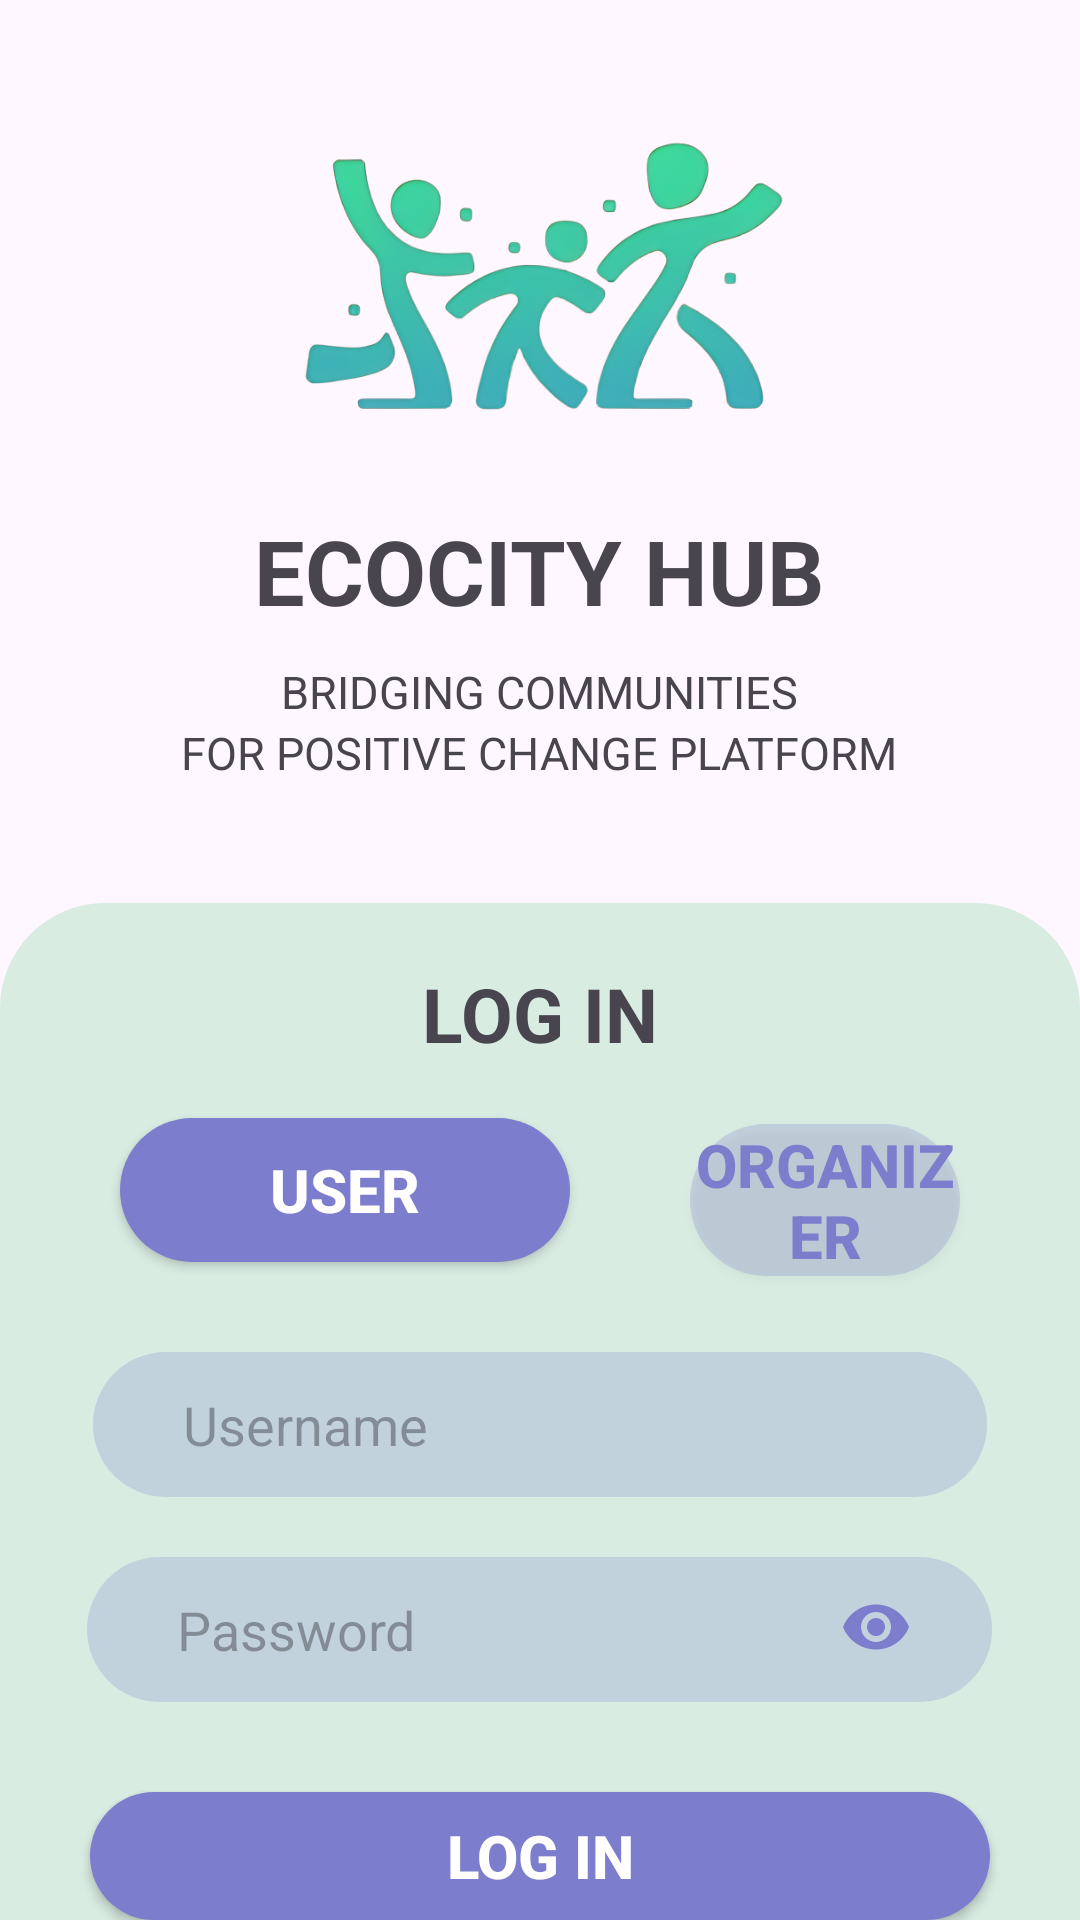

Icon bounding boxes for this 1080×1920 phone screenshot, format (x1, y1, x2, y2):
visibility: (843, 1604, 909, 1650)
